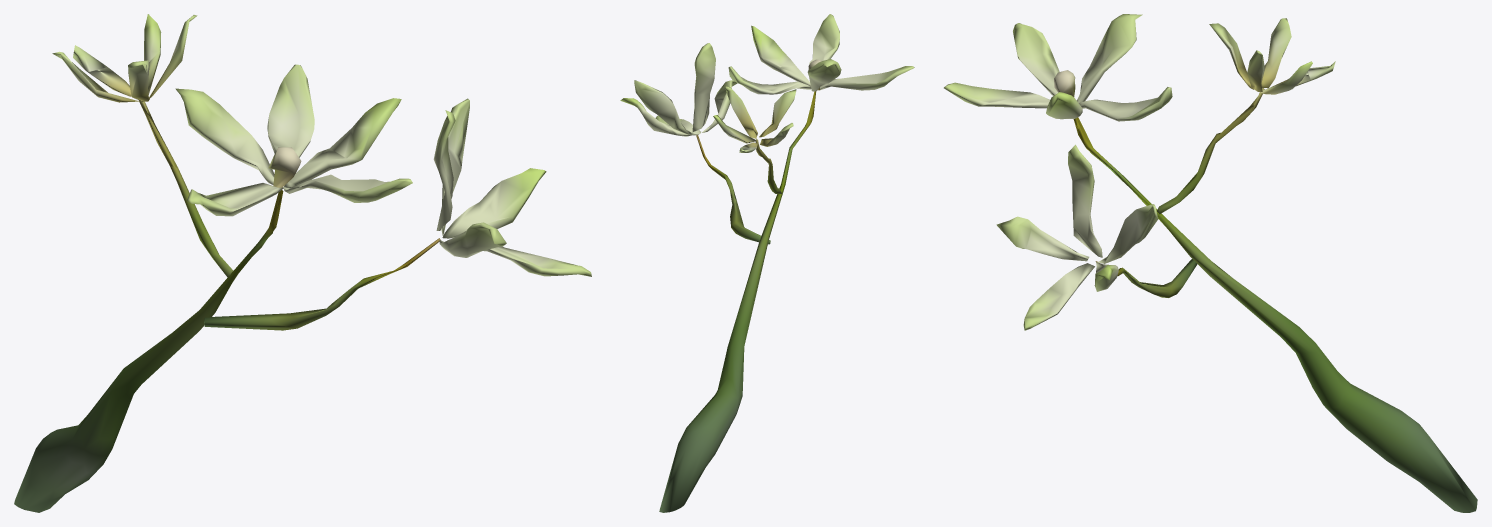
3 renders of one model, left to right at view 1: azimuth 30°, elevation 25°; view 2: azimuth 150°, elevation 25°; view 3: azimuth 270°, elevation 25°, orthographic. The views are drawn at different scales.
Visible parts, largest first — view 1: LOD 5_6708565968084579216_bb9398364d468ec489d5e3c54dd32286; view 2: LOD 5_6708565968084579216_bb9398364d468ec489d5e3c54dd32286; view 3: LOD 5_6708565968084579216_bb9398364d468ec489d5e3c54dd32286.
Boxes of the visible parts, x1=… form: LOD 5_6708565968084579216_bb9398364d468ec489d5e3c54dd32286: x1=14, y1=14, x2=591, y2=512; LOD 5_6708565968084579216_bb9398364d468ec489d5e3c54dd32286: x1=620, y1=14, x2=914, y2=512; LOD 5_6708565968084579216_bb9398364d468ec489d5e3c54dd32286: x1=944, y1=14, x2=1477, y2=512.
Size of the model in its own units: 7.95 by 10.63 by 10.87.
